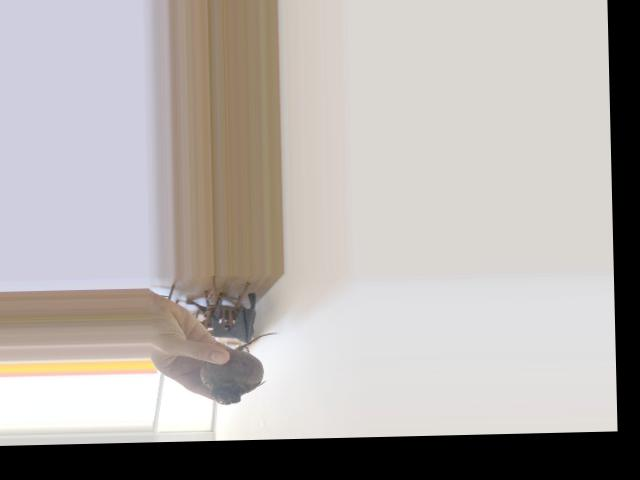beet: (199, 332, 282, 405)
